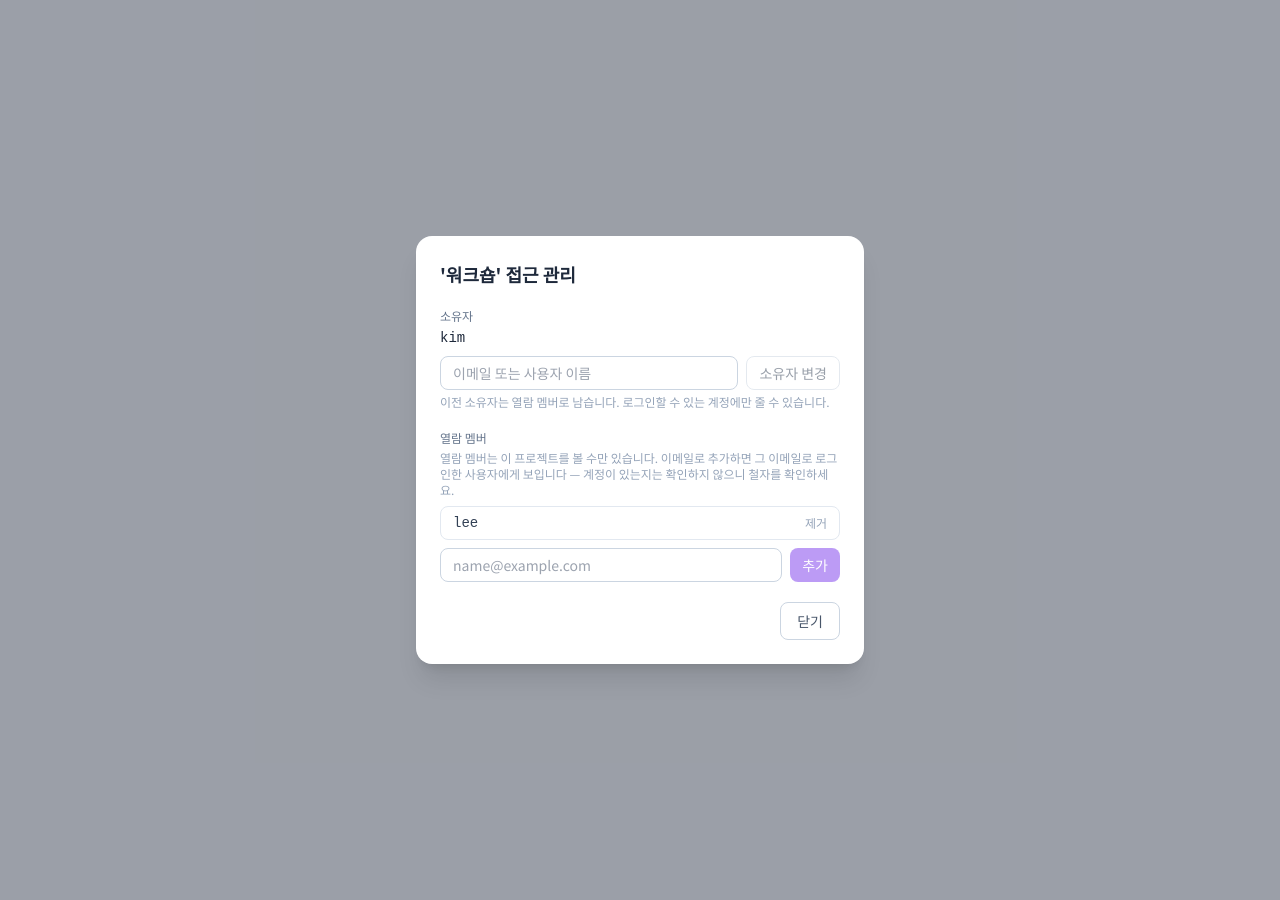
Test: ProjectMembersModal › lets an admin hand the project to another user
Type "park@example.com" into the field named "새 소유자". click: (589, 373)
box: left=440, top=356, right=738, bottom=390
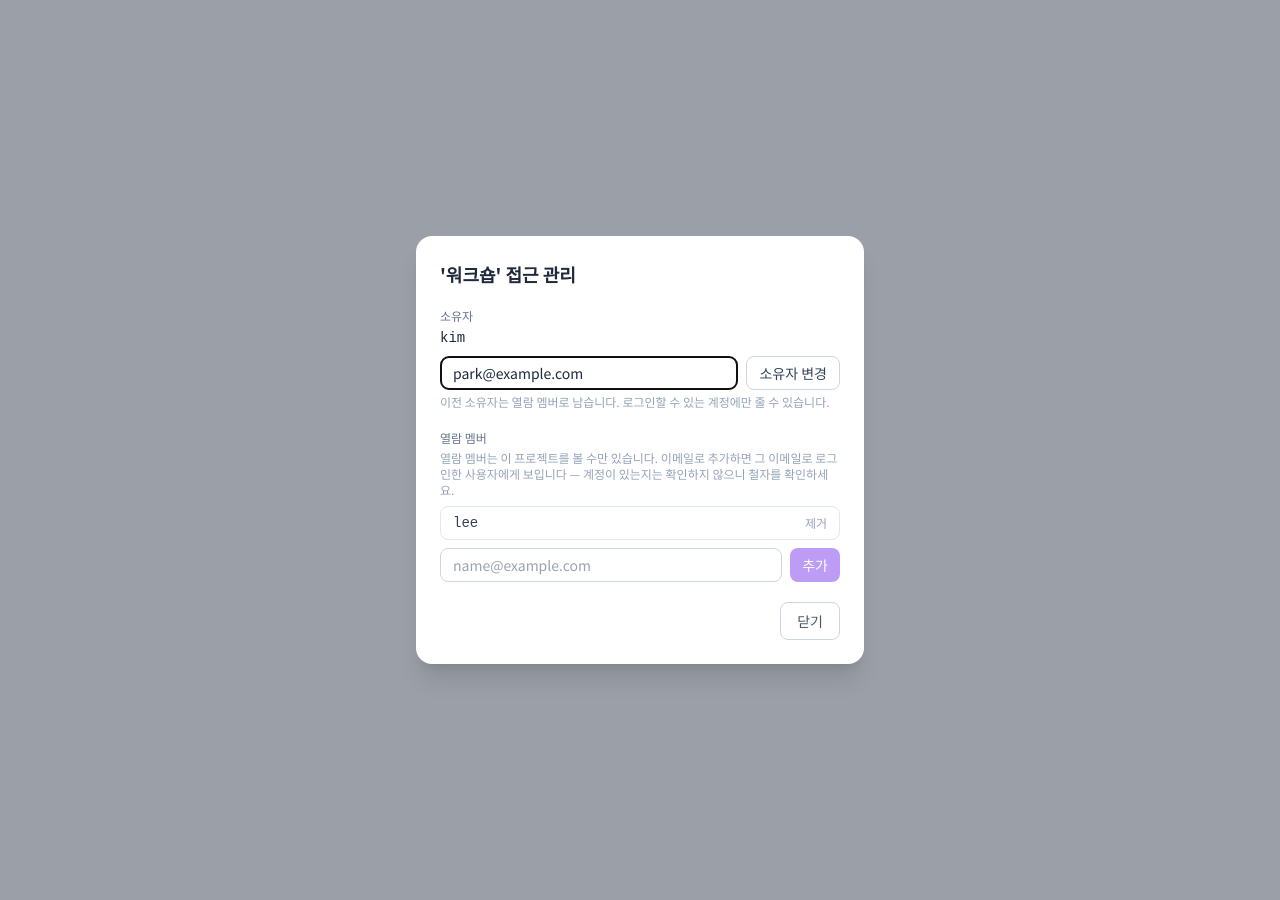
Click the button "소유자 변경". click: (793, 373)
box: left=746, top=356, right=840, bottom=390
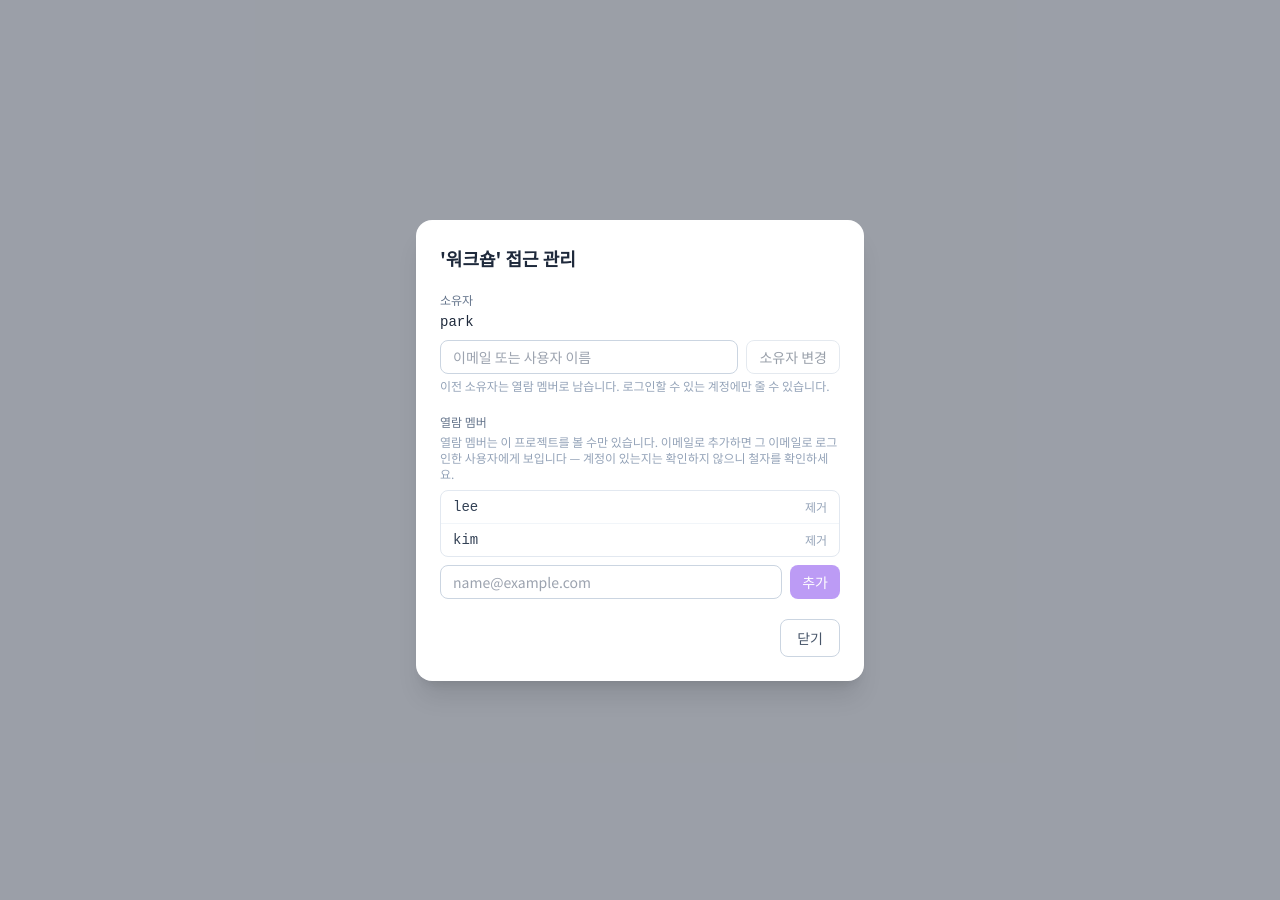
Expected: the text "kim" is shown, left=453, top=530, right=478, bottom=550
Expected: the text with test id "members-owner" reads "park", left=440, top=314, right=474, bottom=330
